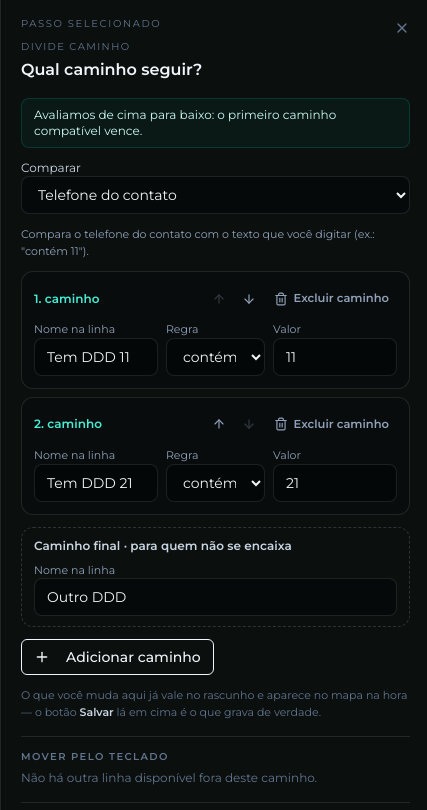
Test case: AutomationStepDock › mostra na doca a orientação ao bloquear remoção com subárvore
The image size is (427, 810).
Click the button with aria-label "Excluir caminho 1" at (331, 299), box [266,284,397,313]
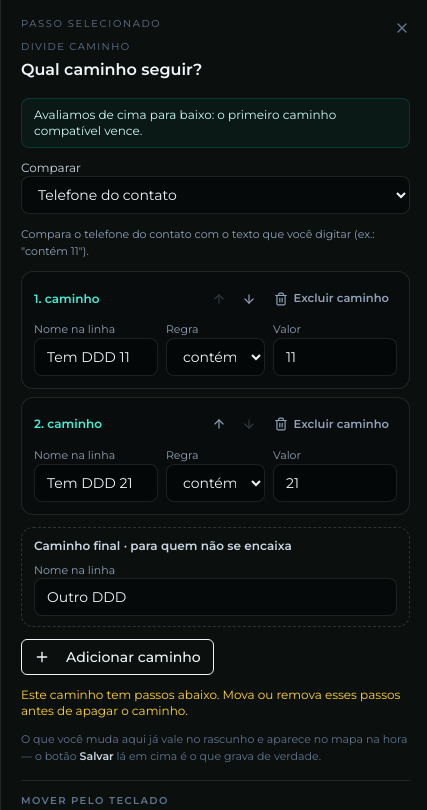
Expected: the message shows "Este caminho tem passos abaixo. Mova ou remova esses passos antes de apagar o caminho.", [21,687,400,718]
